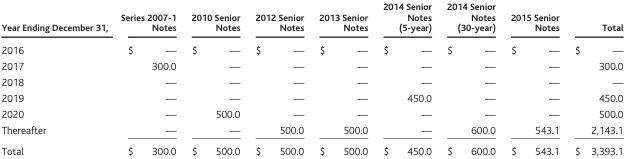table: (0, 0, 622, 156)
table column: (0, 0, 113, 156), (113, 0, 183, 156), (246, 0, 310, 156), (310, 0, 374, 156), (374, 0, 438, 156), (438, 0, 502, 156), (502, 0, 566, 156), (183, 0, 246, 156), (566, 0, 622, 156)
table column header: (0, 0, 622, 38)
table row: (0, 0, 622, 38), (0, 38, 622, 57), (0, 121, 622, 139), (0, 139, 622, 156), (0, 57, 622, 73), (0, 73, 622, 89), (0, 89, 622, 105), (0, 105, 622, 121)
